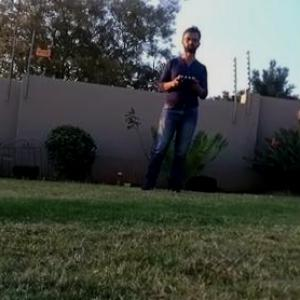follow: (135, 18, 209, 196)
